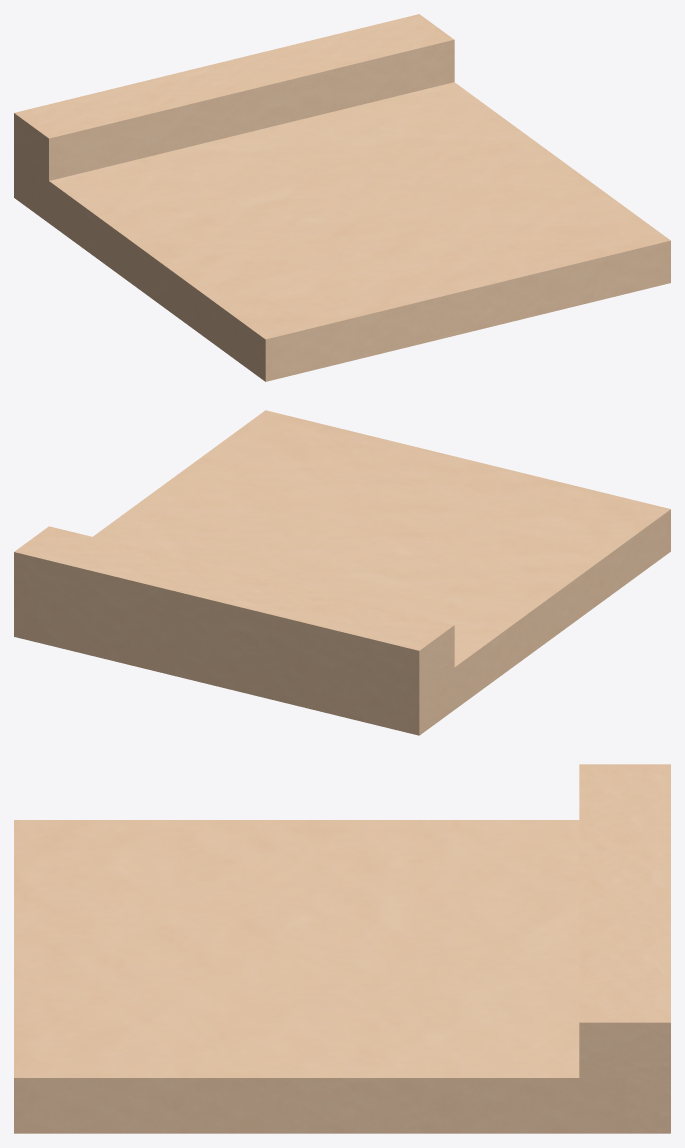
Rendered from Sidewalk_Tile.fbx.
3 renders of one model, top to bottom at view 1: azimuth 30°, elevation 25°; view 2: azimuth 150°, elevation 25°; view 3: azimuth 270°, elevation 25°, orthographic. The views are drawn at different scales.
Parts seen in each view (by area): view 1: Sidewalk_Tile; view 2: Sidewalk_Tile; view 3: Sidewalk_Tile.
Part boxes in pixels (x1,y1,x2,y2): Sidewalk_Tile: (14, 14, 670, 381); Sidewalk_Tile: (14, 410, 670, 735); Sidewalk_Tile: (14, 764, 670, 1133).
Bounding box in the file's own units: 1 × 0.2 × 1.08.
Materials: 1 (1 with a texture image).
